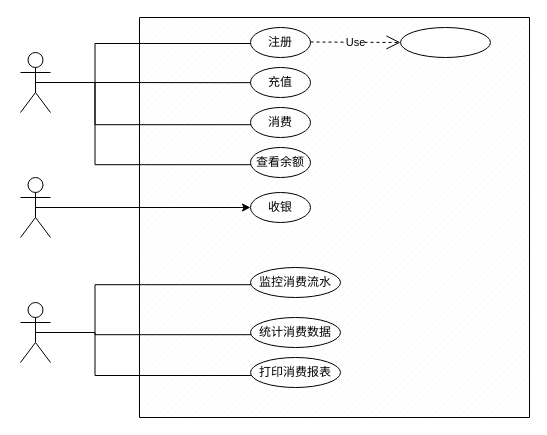
Some shapes in this 547 by 435 pixel diagram are drawn without their labels. The centre of each missing label's shape, as x and y in pixels:
服务员: (x=35, y=207)
消费者: (x=35, y=82)
管理员: (x=35, y=332)
身份信息: (x=445, y=42)
